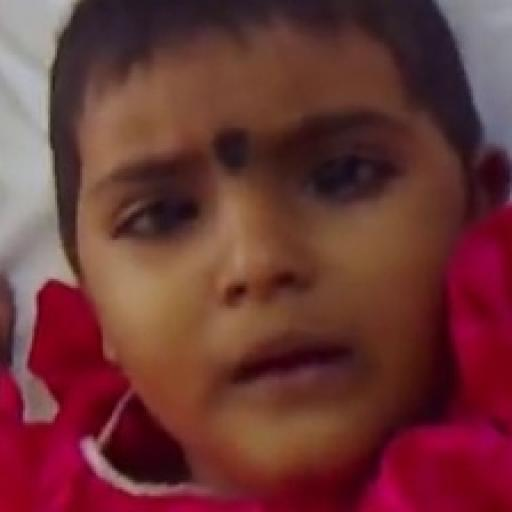Autism: (39, 8, 494, 512)
